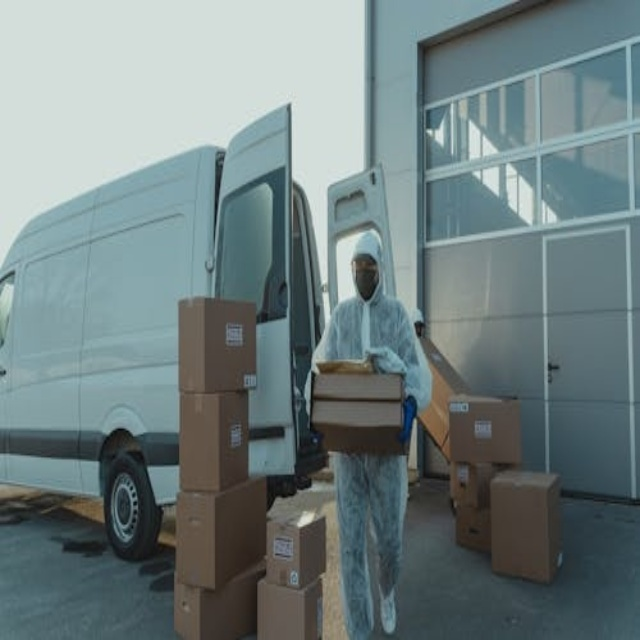Guantes: (399, 392, 419, 446)
Mascara: (352, 263, 380, 300)
